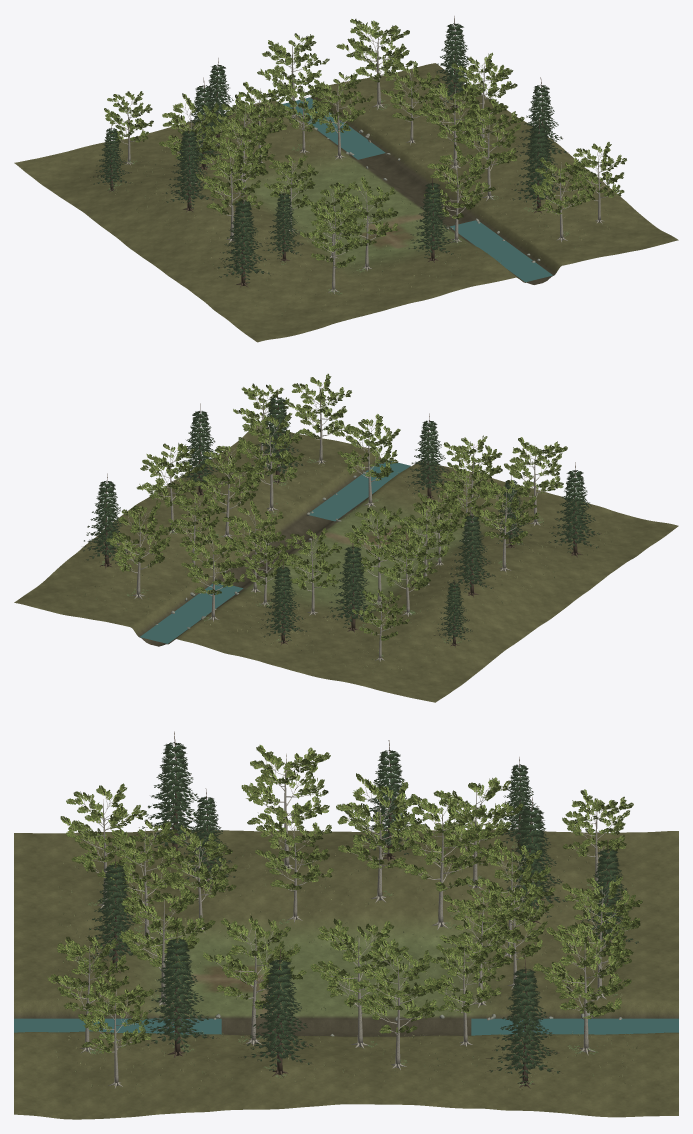
The model's file is landscape-compact.glb.
3 views of the same model, one above another, from view 1: azimuth 30°, elevation 25°; view 2: azimuth 150°, elevation 25°; view 3: azimuth 270°, elevation 25° (orthographic). The views are drawn at different scales.
Parts seen in each view (by area): view 1: terrain_surface, river_surface_outside_wave_zone, aspen_29_foliage, birch_06_foliage, birch_23_foliage, aspen_13_foliage, aspen_22_foliage, spruce_16_foliage, birch_20_foliage, birch_15_foliage, birch_12_foliage, birch_30_foliage (+22 smaller); view 2: terrain_surface, river_surface_outside_wave_zone, aspen_22_foliage, aspen_29_foliage, aspen_13_foliage, birch_23_foliage, birch_20_foliage, birch_06_foliage, birch_27_foliage, birch_00_foliage, birch_30_foliage, spruce_16_foliage (+23 smaller); view 3: terrain_surface, river_surface_outside_wave_zone, aspen_29_foliage, birch_00_foliage, aspen_01_foliage, birch_06_foliage, birch_27_foliage, spruce_28_foliage, spruce_24_foliage, aspen_22_foliage, spruce_26_foliage, birch_23_foliage (+39 smaller).
Boxes of the visible parts, left/top/right/bottom form: terrain_surface: left=14, top=63, right=678, bottom=342; river_surface_outside_wave_zone: left=282, top=97, right=552, bottom=282; aspen_29_foliage: left=336, top=19, right=413, bottom=82; birch_06_foliage: left=195, top=144, right=265, bottom=214; birch_23_foliage: left=455, top=104, right=524, bottom=168; aspen_13_foliage: left=424, top=144, right=495, bottom=219; aspen_22_foliage: left=414, top=82, right=488, bottom=142; spruce_16_foliage: left=218, top=200, right=269, bottom=283; birch_20_foliage: left=257, top=33, right=329, bottom=96; birch_15_foliage: left=300, top=204, right=369, bottom=267; birch_12_foliage: left=303, top=72, right=373, bottom=133; birch_30_foliage: left=531, top=157, right=591, bottom=214; terrain_surface: left=14, top=424, right=678, bottom=702; river_surface_outside_wave_zone: left=140, top=460, right=410, bottom=643; aspen_22_foliage: left=194, top=439, right=266, bottom=512; aspen_29_foliage: left=106, top=500, right=176, bottom=571; aspen_13_foliage: left=335, top=414, right=400, bottom=480; birch_23_foliage: left=238, top=414, right=304, bottom=482; birch_20_foliage: left=179, top=525, right=245, bottom=594; birch_06_foliage: left=471, top=479, right=539, bottom=544; birch_27_foliage: left=136, top=443, right=205, bottom=507; birch_00_foliage: left=345, top=506, right=411, bottom=575; birch_30_foliage: left=287, top=373, right=351, bottom=438; spruce_16_foliage: left=549, top=470, right=599, bottom=552; terrain_surface: left=14, top=829, right=678, bottom=1119; river_surface_outside_wave_zone: left=14, top=1018, right=678, bottom=1035; aspen_29_foliage: left=533, top=922, right=631, bottom=1019; birch_00_foliage: left=389, top=794, right=490, bottom=891; aspen_01_foliage: left=336, top=773, right=427, bottom=868; birch_06_foliage: left=241, top=745, right=330, bottom=830; birch_27_foliage: left=353, top=939, right=442, bottom=1033; spruce_28_foliage: left=489, top=968, right=560, bottom=1082; spruce_24_foliage: left=144, top=938, right=213, bottom=1051; aspen_22_foliage: left=310, top=918, right=408, bottom=1012; spruce_26_foliage: left=244, top=959, right=313, bottom=1070; birch_23_foliage: left=203, top=915, right=306, bottom=1009.
Size of the model in its own units: 48 by 12.18 by 48.
Materials: 9 (6 with a texture image).
